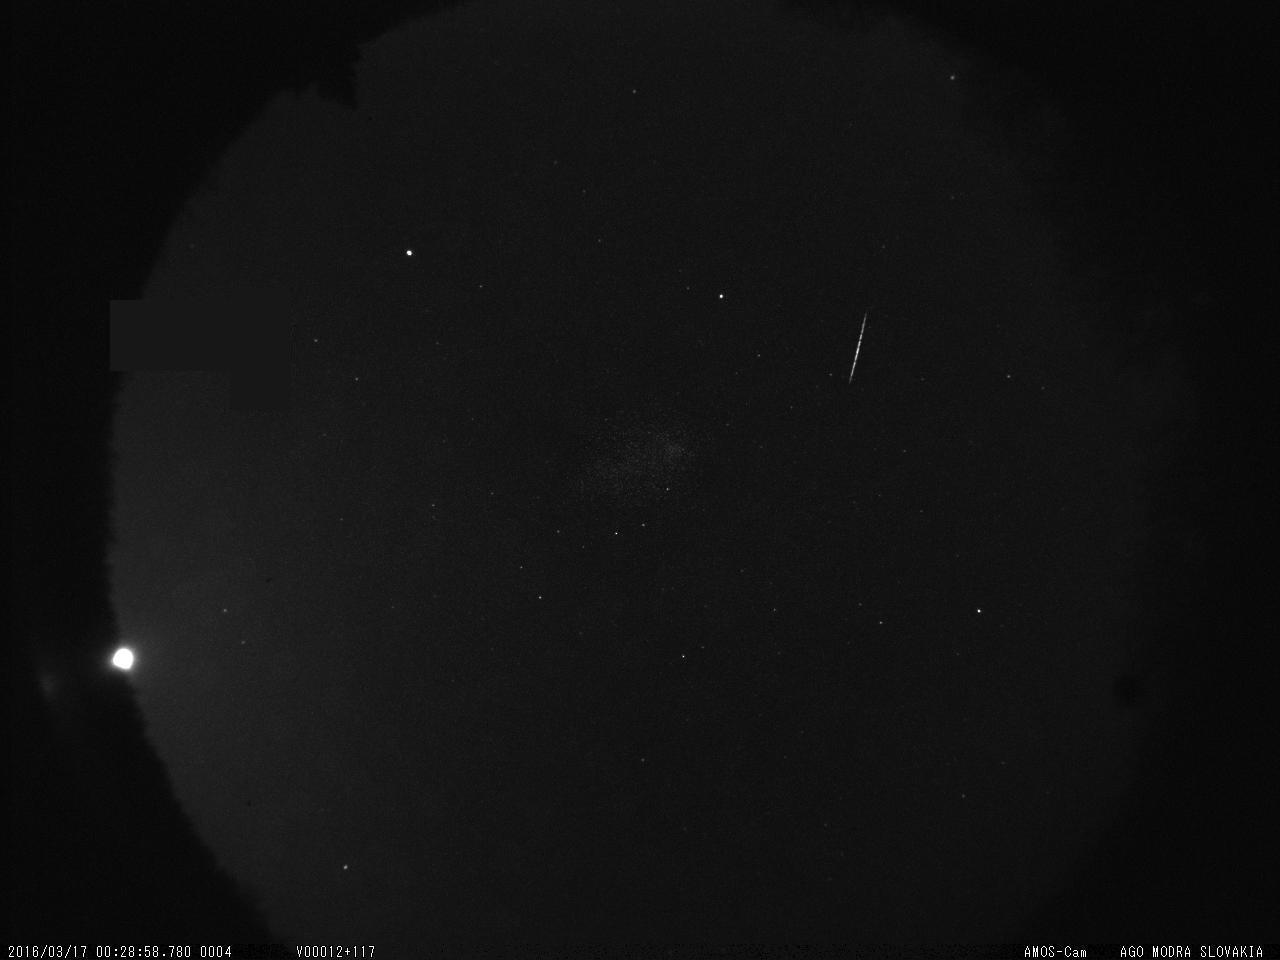meteor: (841, 306, 874, 390)
